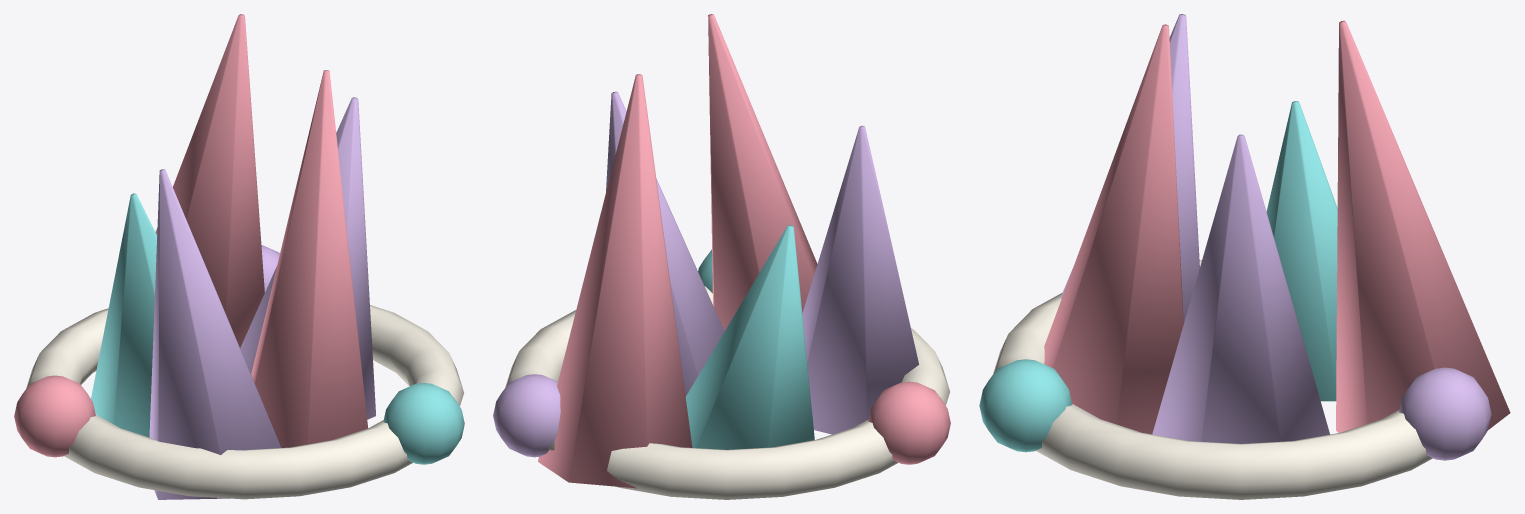
File: treasure_cluster_1.glb
3 renders of one model, left to right at view 1: azimuth 30°, elevation 25°; view 2: azimuth 150°, elevation 25°; view 3: azimuth 270°, elevation 25°, orthographic. The views are drawn at different scales.
Parts seen in each view (by area): view 1: PearlNest.001, Crystal_4, Crystal_3.001, Crystal_1.001, Crystal_2.001, Crystal_0.001, Gem_2.001, Gem_1.001, Gem_0.001; view 2: Crystal_1.001, Crystal_3.001, PearlNest.001, Crystal_2.001, Crystal_4, Crystal_0.001, Gem_1.001, Gem_0.001; view 3: Crystal_1.001, Crystal_4, Crystal_0.001, PearlNest.001, Crystal_2.001, Gem_0.001, Gem_2.001, Crystal_3.001.
Boxes of the visible parts, left/top/right/bottom form: PearlNest.001: left=26, top=305, right=463, bottom=499; Crystal_4: left=251, top=70, right=367, bottom=447; Crystal_3.001: left=149, top=169, right=281, bottom=499; Crystal_1.001: left=155, top=14, right=264, bottom=347; Crystal_2.001: left=91, top=193, right=156, bottom=437; Crystal_0.001: left=240, top=97, right=375, bottom=419; Gem_2.001: left=383, top=383, right=464, bottom=464; Gem_1.001: left=14, top=375, right=95, bottom=457; Gem_0.001: left=261, top=245, right=279, bottom=291; Crystal_1.001: left=538, top=74, right=692, bottom=488; Crystal_3.001: left=802, top=125, right=918, bottom=434; PearlNest.001: left=505, top=286, right=949, bottom=499; Crystal_2.001: left=685, top=225, right=814, bottom=449; Crystal_4: left=708, top=14, right=817, bottom=330; Crystal_0.001: left=606, top=91, right=724, bottom=396; Gem_1.001: left=868, top=381, right=950, bottom=464; Gem_0.001: left=493, top=374, right=560, bottom=457; Crystal_1.001: left=1336, top=20, right=1510, bottom=432; Crystal_4: left=1044, top=24, right=1183, bottom=434; Crystal_0.001: left=1152, top=134, right=1329, bottom=443; PearlNest.001: left=993, top=260, right=1432, bottom=499; Crystal_2.001: left=1266, top=101, right=1337, bottom=401; Gem_0.001: left=1399, top=367, right=1491, bottom=460; Gem_2.001: left=979, top=359, right=1072, bottom=452; Crystal_3.001: left=1060, top=14, right=1199, bottom=322.
Size of the model in its own units: 2.89 by 2.51 by 2.85.
